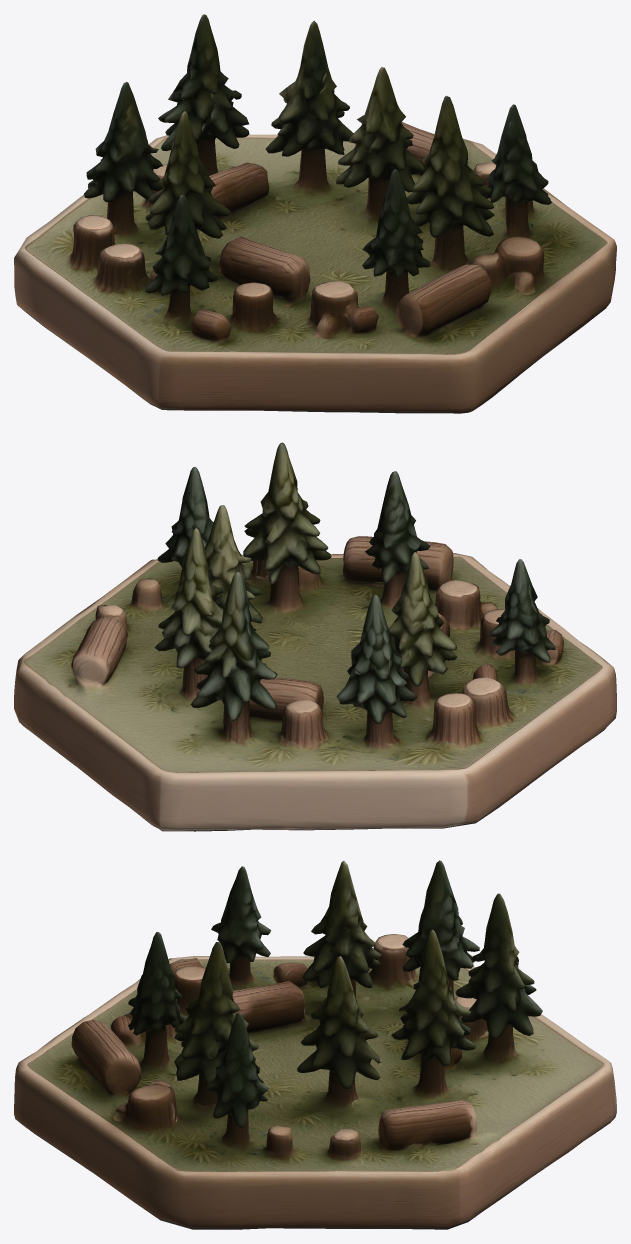
File: pilot_wood.glb
3 views of the same model, one above another, from view 1: azimuth 30°, elevation 25°; view 2: azimuth 150°, elevation 25°; view 3: azimuth 270°, elevation 25° (orthographic). The views are drawn at different scales.
Parts seen in each view (by area): view 1: tripo_node_621d53cb; view 2: tripo_node_621d53cb; view 3: tripo_node_621d53cb.
Part boxes in pixels (<box>): tripo_node_621d53cb: <box>14,14,616,413</box>; tripo_node_621d53cb: <box>14,442,616,831</box>; tripo_node_621d53cb: <box>14,860,616,1229</box>.
Size of the model in its own units: 85.01 by 39.2 by 97.38.
Materials: 1 (1 with a texture image).
